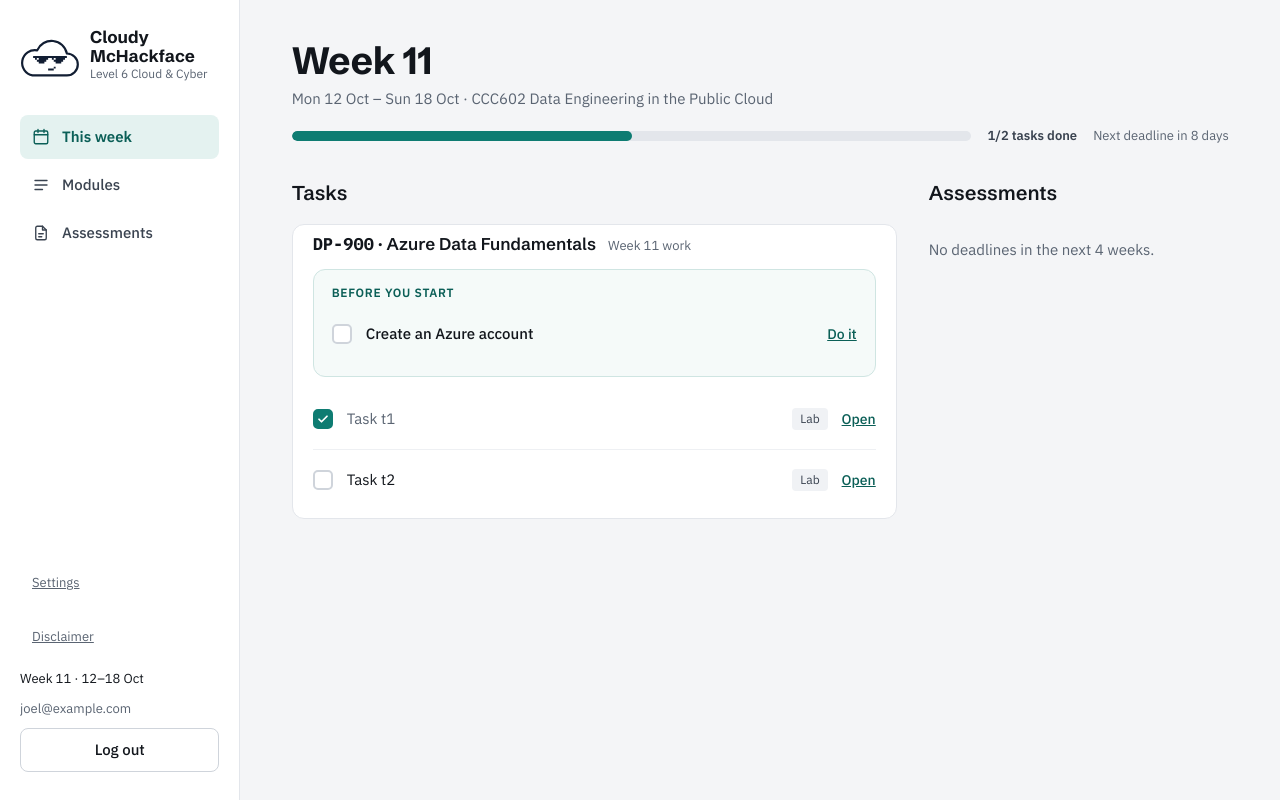
ThisWeekPage › rolls back a failed tick
The width and height of the screenshot is (1280, 800).
Click the checkbox labelled "Task t2" at [323, 480], box [313, 470, 333, 490]
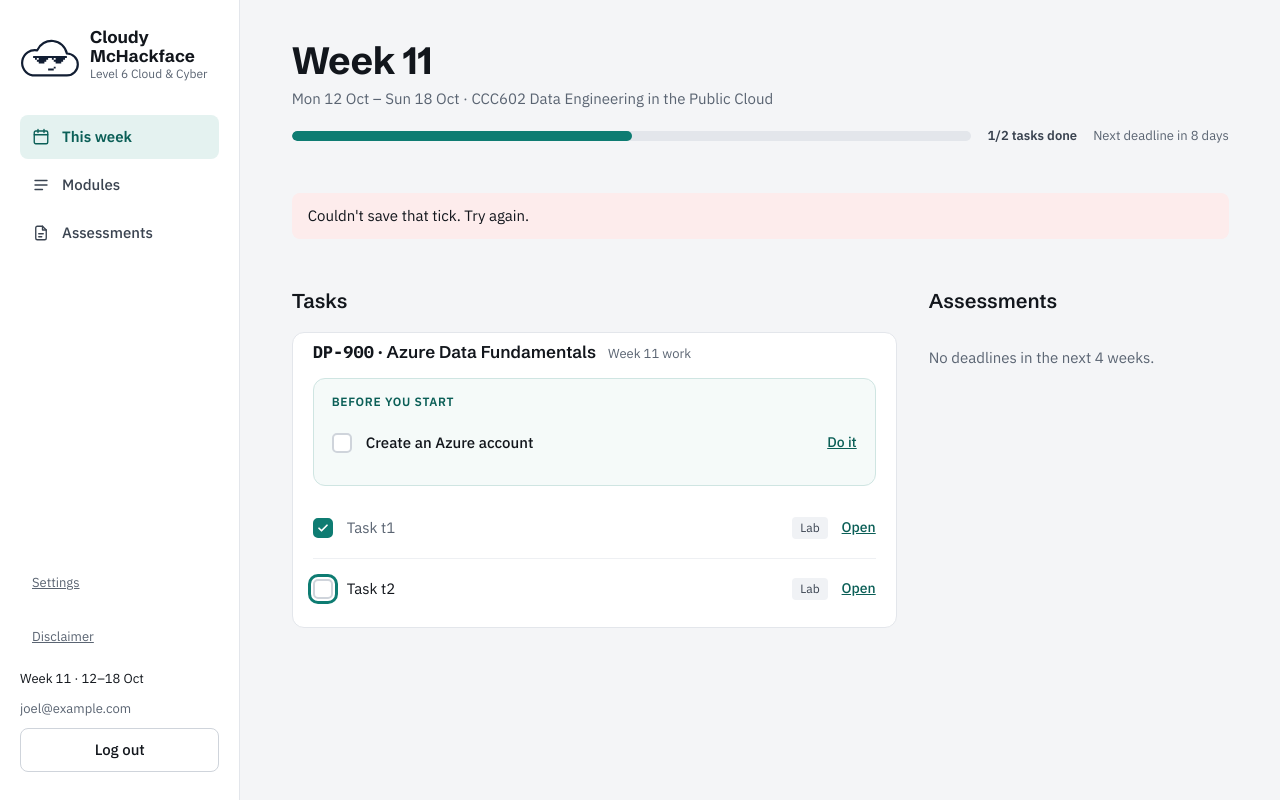
Expected: the checkbox labelled "Task t2" is not checked, [313, 579, 333, 599]
Result: the message reads "Couldn't save that tick. Try again." at [308, 206, 529, 225]
